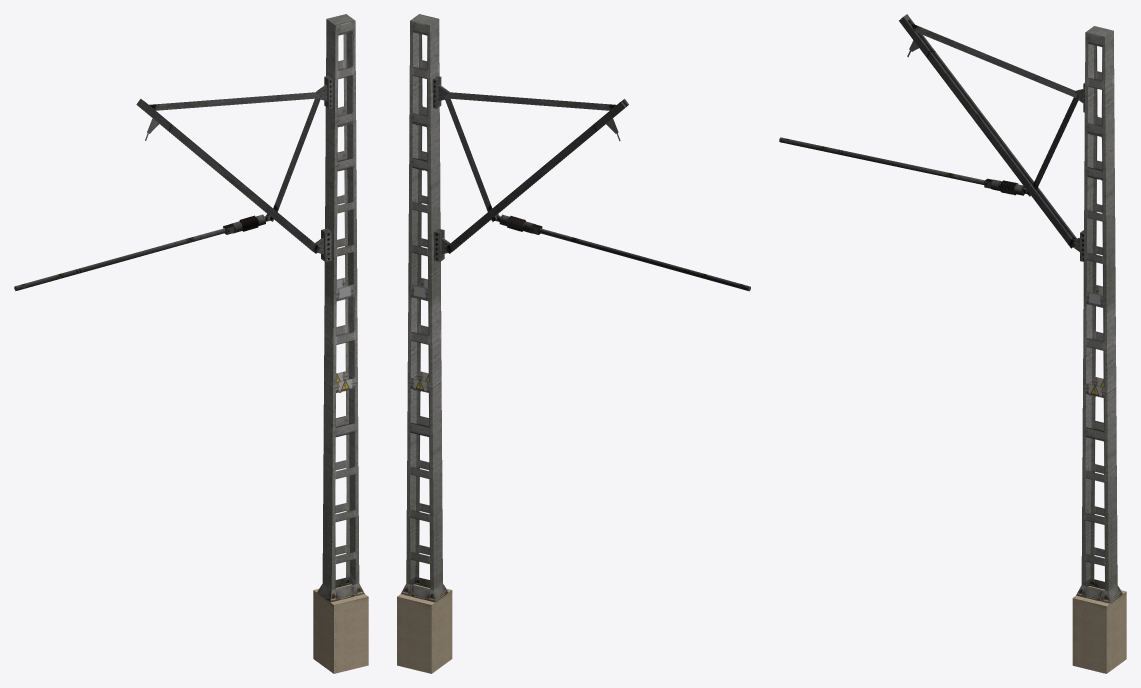
File: KZDM_opk1l.gltf
The picture shows the model from 3 angles, left to right: view 1: azimuth 30°, elevation 25°; view 2: azimuth 150°, elevation 25°; view 3: azimuth 330°, elevation 25°; orthographic projection.
Size of the model in its own units: 5.78 by 10.36 by 0.6.
Materials: 1 (1 with a texture image).
